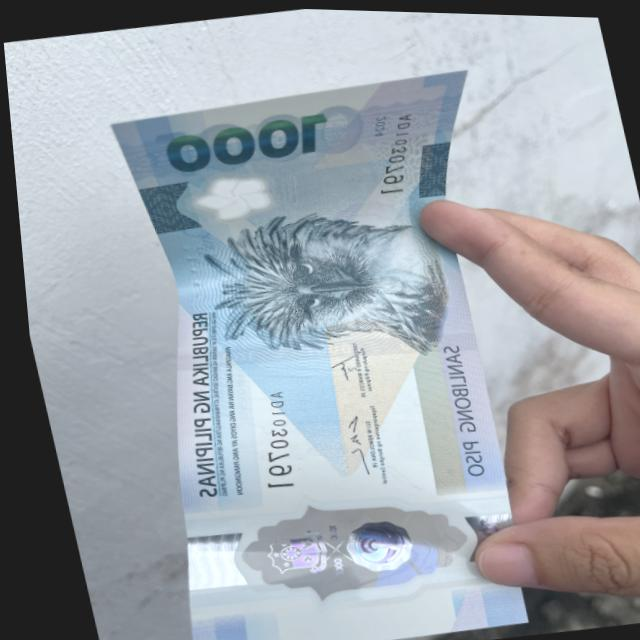clear_window: (230, 480, 458, 607)
eagle: (183, 188, 413, 376)
sampaguita: (173, 159, 306, 232)
security_thread: (165, 309, 471, 387)
serial_number: (222, 375, 307, 499), (348, 98, 438, 199)
value: (151, 96, 331, 184)
